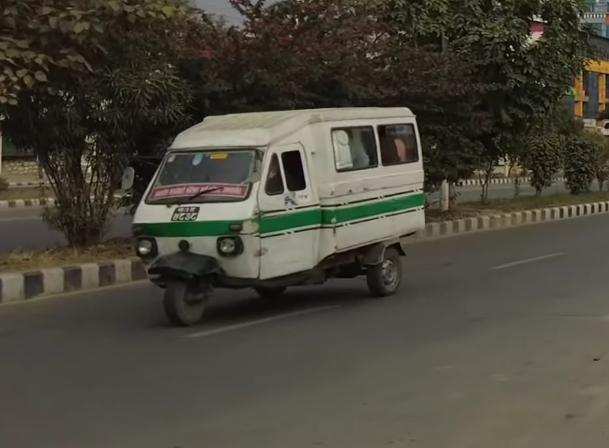tempo: (126, 102, 431, 335)
